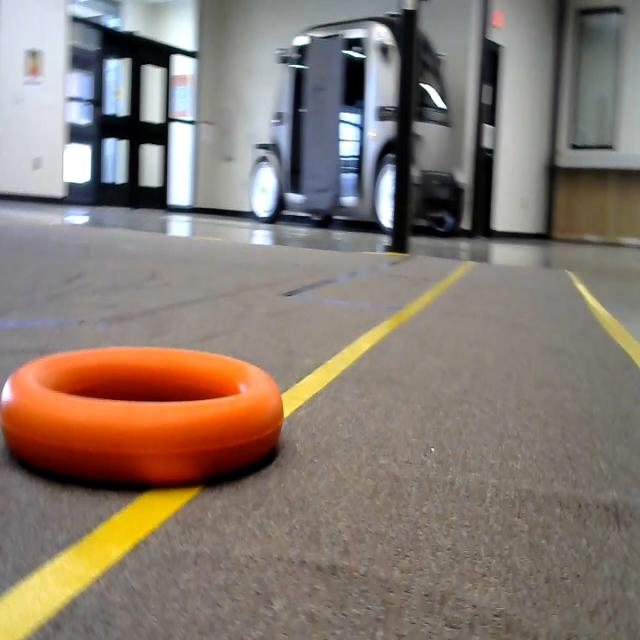note: (0, 315, 283, 506)
